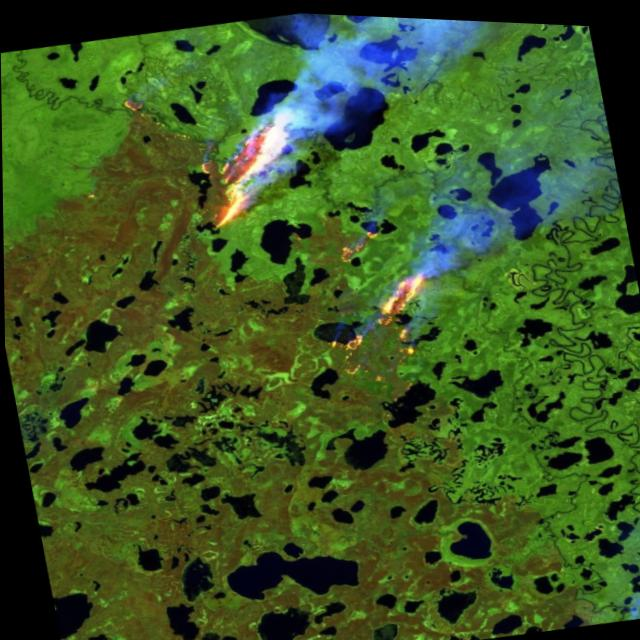fire: (116, 59, 322, 245), (304, 257, 459, 413), (320, 215, 394, 270)
